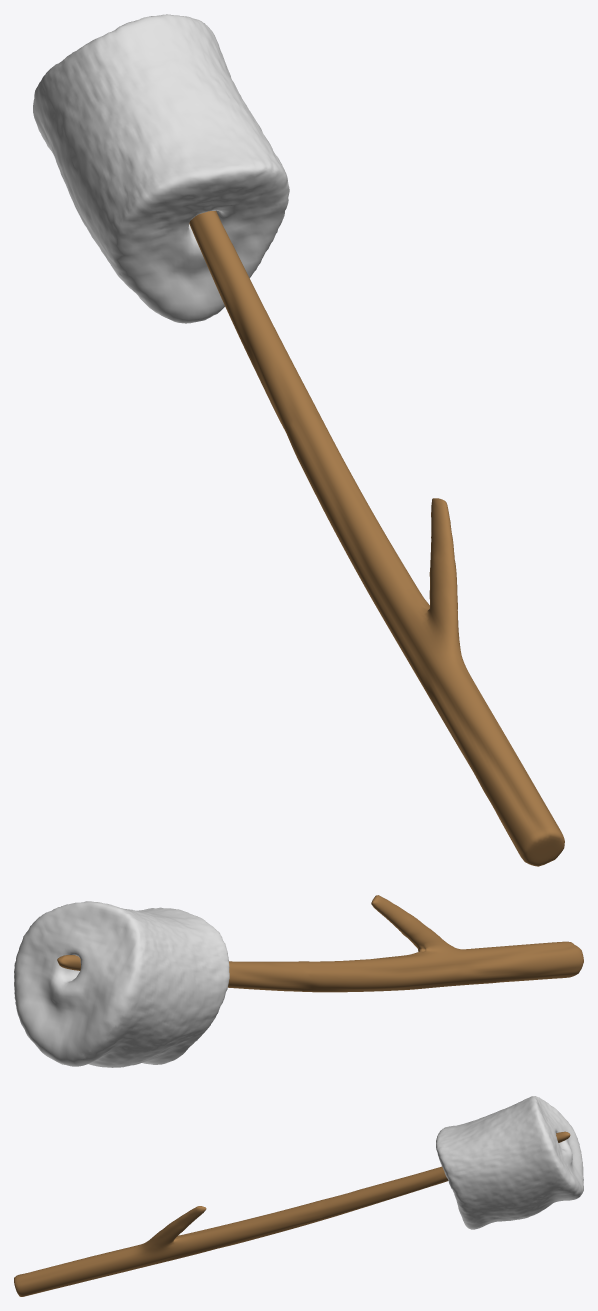
File: Marshmallow.fbx
3 renders of one model, top to bottom at view 1: azimuth 30°, elevation 25°; view 2: azimuth 150°, elevation 25°; view 3: azimuth 270°, elevation 25°, orthographic. The views are drawn at different scales.
Parts seen in each view (by area): view 1: marshmallow, stick; view 2: marshmallow, stick; view 3: marshmallow, stick.
Boxes of the visible parts, bbox=[...] form: marshmallow: bbox=[33, 14, 289, 323]; stick: bbox=[189, 211, 564, 866]; marshmallow: bbox=[14, 901, 229, 1067]; stick: bbox=[57, 895, 583, 992]; marshmallow: bbox=[436, 1096, 583, 1229]; stick: bbox=[14, 1131, 570, 1296].
Bounding box in the file's own units: 109 × 206 × 479.
